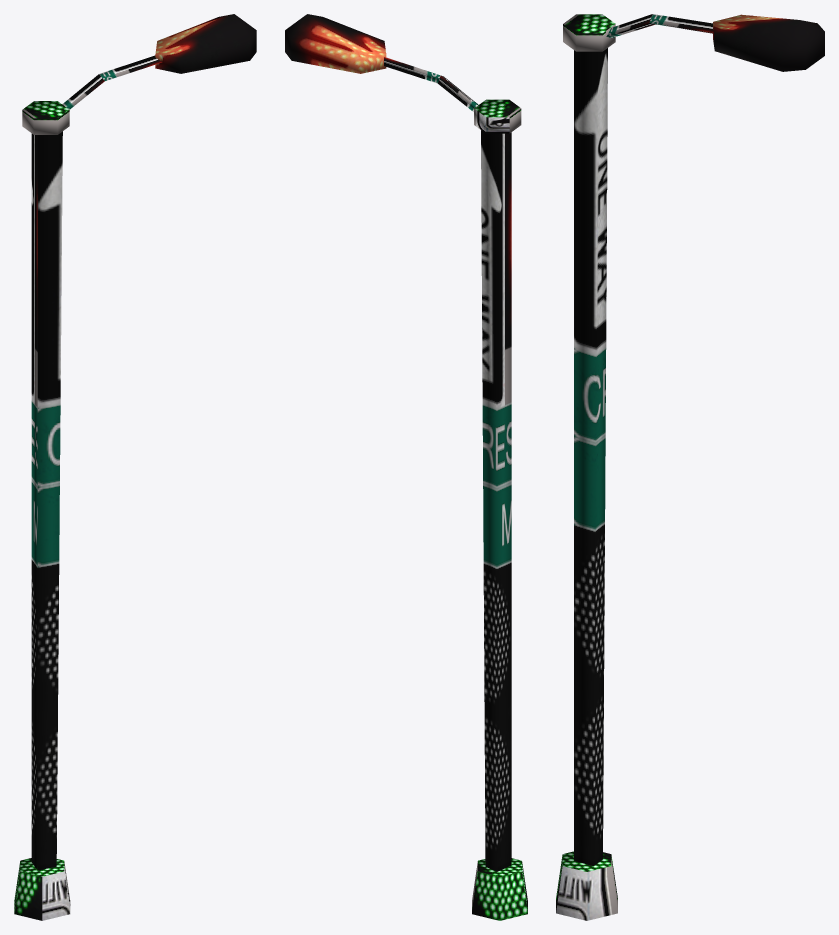
Rendered from SYJ_ludeng01.FBX.
The picture shows the model from 3 angles, left to right: view 1: azimuth 30°, elevation 25°; view 2: azimuth 150°, elevation 25°; view 3: azimuth 330°, elevation 25°; orthographic projection. The views are drawn at different scales.
Parts seen in each view (by area): view 1: SYJ_renxingdao01; view 2: SYJ_renxingdao01; view 3: SYJ_renxingdao01.
Part boxes in pixels (left/top/right/bottom): SYJ_renxingdao01: left=14, top=14, right=256, bottom=920; SYJ_renxingdao01: left=285, top=14, right=527, bottom=920; SYJ_renxingdao01: left=556, top=14, right=824, bottom=920.
Size of the model in its own units: 327 by 1132 by 76.29.
1 material, 1 textured.
